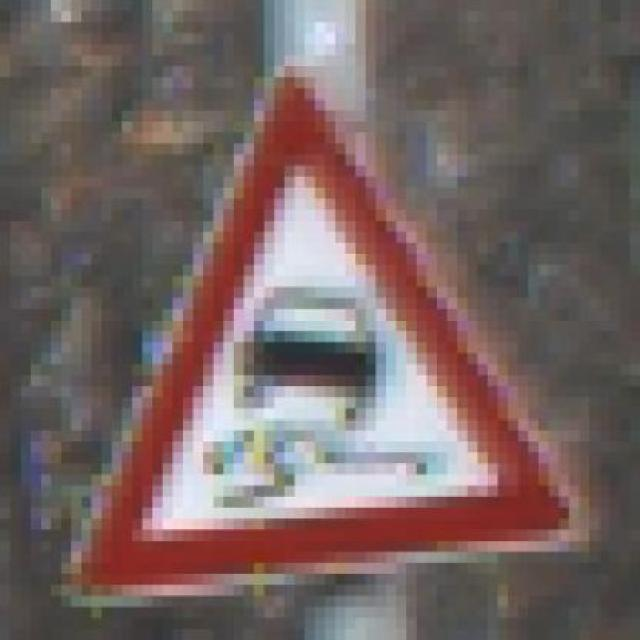Slippery Road Ahead: (41, 66, 610, 596)
